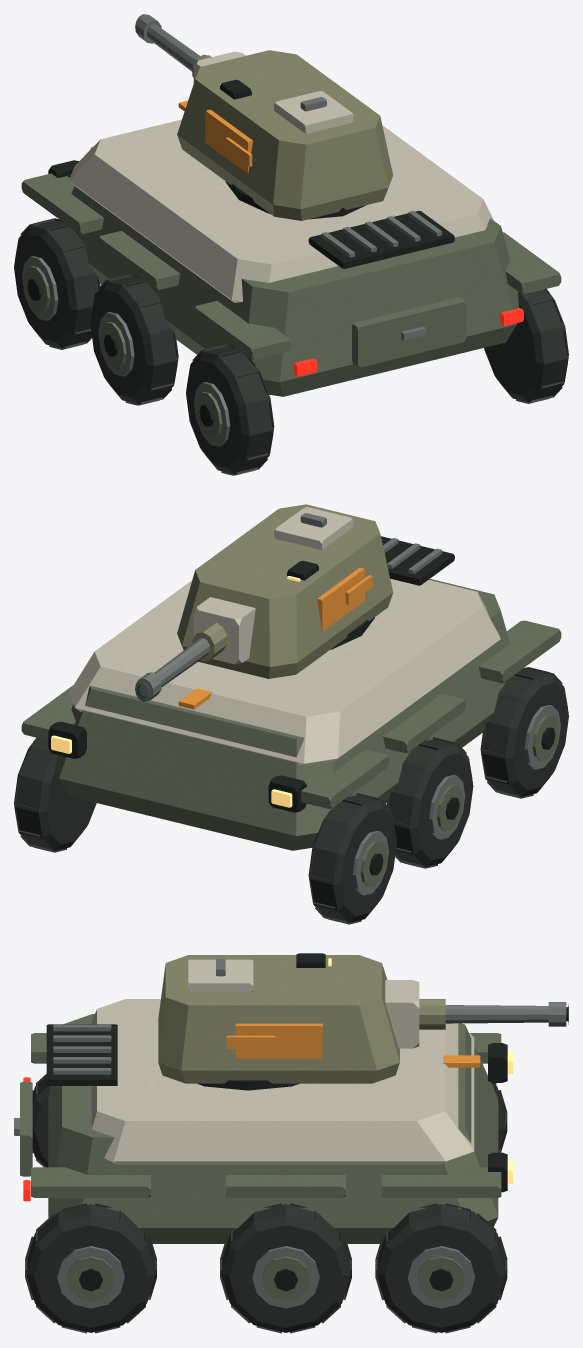
Rendered from apc.glb.
3 renders of one model, top to bottom at view 1: azimuth 30°, elevation 25°; view 2: azimuth 150°, elevation 25°; view 3: azimuth 270°, elevation 25°, orthographic.
Parts seen in each view (by area): view 1: apc_body, apc_turret, apc_wheel_L1, apc_wheel_L2, apc_wheel_L3, apc_wheel_R1, apc_barrel; view 2: apc_body, apc_turret, apc_wheel_L3, apc_wheel_L1, apc_wheel_L2, apc_wheel_R3, apc_mantlet, apc_barrel; view 3: apc_body, apc_turret, apc_wheel_R3, apc_wheel_R1, apc_wheel_R2, apc_barrel, apc_mantlet, apc_wheel_L1, apc_wheel_L3.
Part boxes in pixels (left/top/right/bottom): apc_body: left=21, top=100, right=561, bottom=396; apc_turret: left=177, top=50, right=393, bottom=220; apc_wheel_L1: left=186, top=344, right=274, bottom=475; apc_wheel_L2: left=90, top=274, right=178, bottom=405; apc_wheel_L3: left=14, top=218, right=100, bottom=349; apc_wheel_R1: left=484, top=289, right=568, bottom=403; apc_barrel: left=135, top=14, right=211, bottom=77; apc_body: left=21, top=536, right=561, bottom=850; apc_turret: left=177, top=504, right=393, bottom=678; apc_wheel_L3: left=308, top=793, right=396, bottom=924; apc_wheel_L1: left=480, top=667, right=568, bottom=798; apc_wheel_L2: left=387, top=737, right=473, bottom=868; apc_wheel_R3: left=14, top=737, right=96, bottom=852; apc_mantlet: left=193, top=597, right=255, bottom=664; apc_barrel: left=135, top=623, right=227, bottom=701; apc_body: left=14, top=999, right=512, bottom=1243; apc_turret: left=158, top=953, right=399, bottom=1090; apc_wheel_R3: left=375, top=1203, right=507, bottom=1333; apc_wheel_R1: left=25, top=1203, right=156, bottom=1333; apc_wheel_R2: left=220, top=1203, right=351, bottom=1333; apc_barrel: left=419, top=999, right=568, bottom=1029; apc_mantlet: left=385, top=980, right=419, bottom=1048; apc_wheel_L1: left=32, top=1074, right=50, bottom=1167; apc_wheel_L3: left=491, top=1082, right=507, bottom=1152.
Bounding box in the file's own units: 0.5989 × 0.4739 × 0.8205.
Materials: 1 (1 with a texture image).
